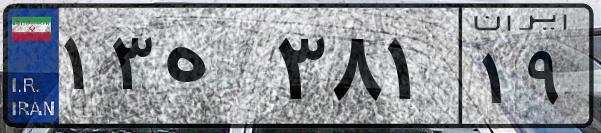1: (385, 28, 445, 110), (57, 26, 110, 100), (475, 38, 525, 113)
3: (270, 28, 330, 110), (110, 28, 158, 98)
8: (330, 28, 385, 110)
9: (525, 38, 570, 115)
ه: (158, 20, 270, 120)
